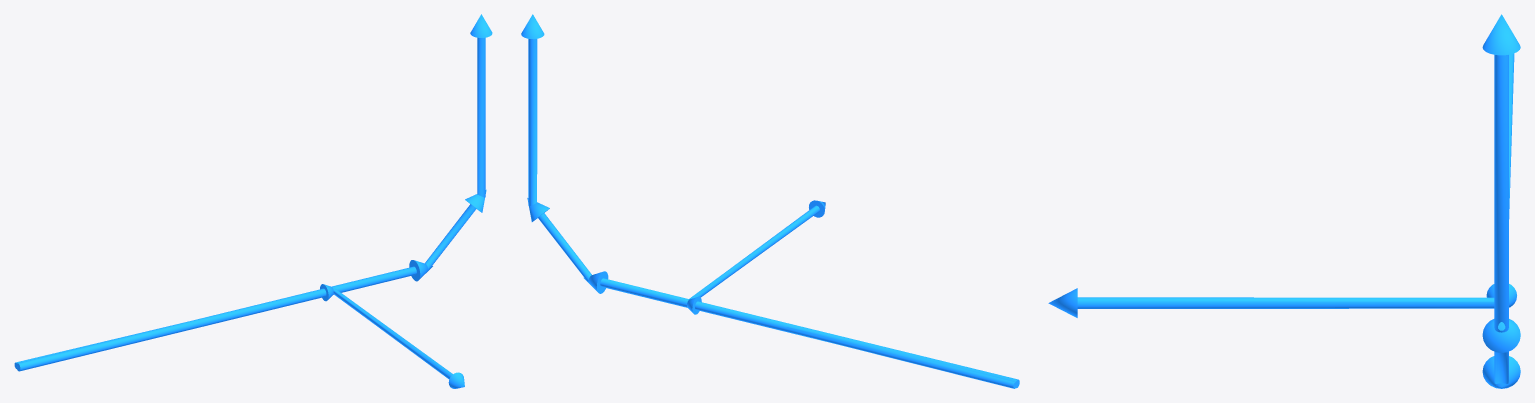
The model's file is pipe_spool_flow.glb.
The picture shows the model from 3 angles, left to right: view 1: azimuth 30°, elevation 25°; view 2: azimuth 150°, elevation 25°; view 3: azimuth 270°, elevation 25°; orthographic projection. The views are drawn at different scales.
Visible parts, largest first — view 1: main, branch; view 2: main, branch; view 3: main, branch.
Boxes of the visible parts, <box> form: main: <box>17,14,492,371</box>; branch: <box>14,284,464,388</box>; main: <box>521,14,1019,388</box>; branch: <box>687,200,1016,388</box>; main: <box>1482,14,1520,388</box>; branch: <box>1048,53,1516,317</box>.
Size of the model in its own units: 1.28 by 0.646 by 0.642.
